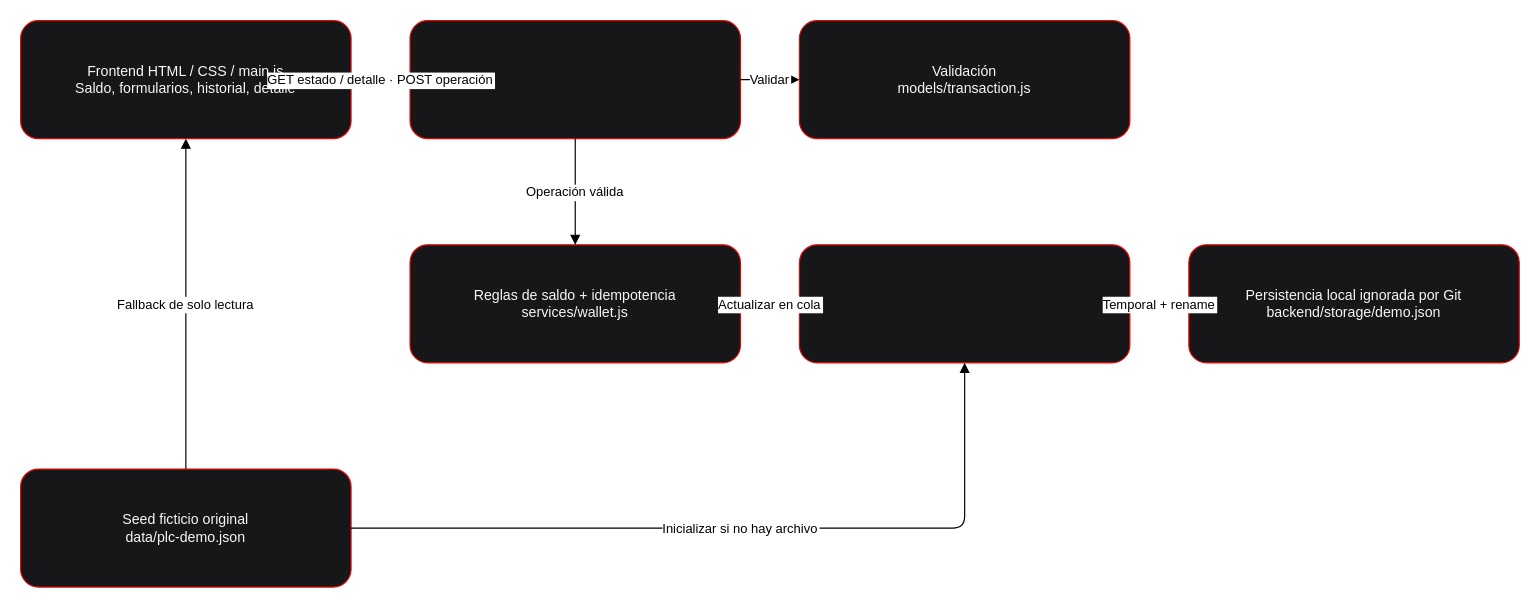
The diagram is 1540 pixels wide and 608 high, and some of its shapes have lost their labels. The centre of each missing label's shape, as x and y in pixels:
"Cola y snapshots services/store.js" belongs at point (964, 303).
"HTTP local 127.0.0.1 server.js + routes/api.js" belongs at point (574, 79).
